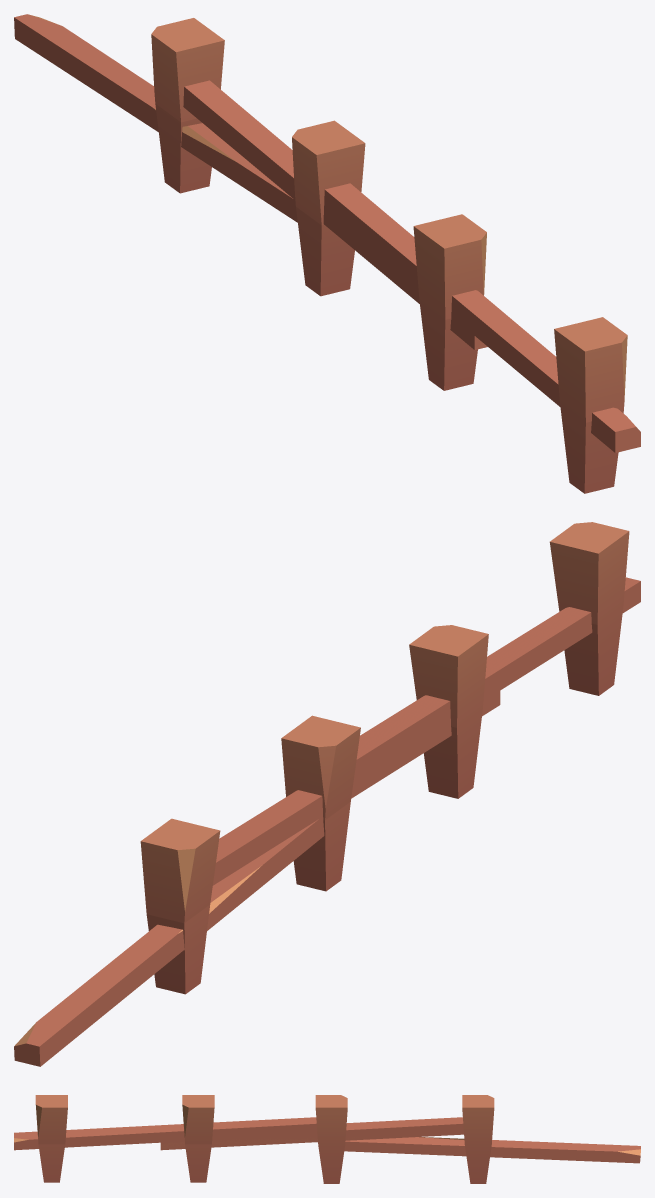
File: Fences.fbx
The picture shows the model from 3 angles, top to bottom: view 1: azimuth 30°, elevation 25°; view 2: azimuth 150°, elevation 25°; view 3: azimuth 270°, elevation 25°; orthographic projection. The views are drawn at different scales.
Parts seen in each view (by area): view 1: Fence_1, Fence_2; view 2: Fence_1, Fence_2; view 3: Fence_1, Fence_2, Fence_3.
Part boxes in pixels (x1,y1,x2,y2): Fence_1: [14, 14, 640, 493]; Fence_2: [151, 18, 487, 390]; Fence_1: [14, 522, 640, 1066]; Fence_2: [140, 625, 500, 994]; Fence_1: [14, 1095, 640, 1183]; Fence_2: [160, 1095, 494, 1183]; Fence_3: [160, 1134, 459, 1150].
Size of the model in its own units: 14.07 by 41.26 by 300.
